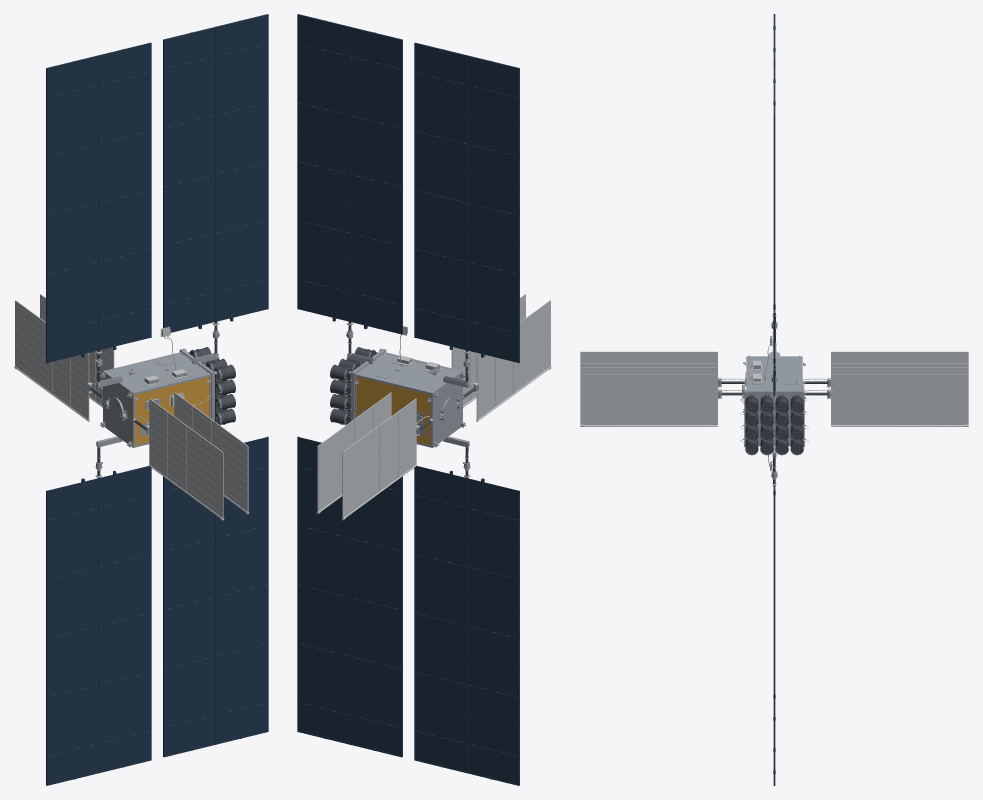
Rendered from transmitter.glb.
3 renders of one model, left to right at view 1: azimuth 30°, elevation 25°; view 2: azimuth 150°, elevation 25°; view 3: azimuth 270°, elevation 25°, orthographic. The views are drawn at different scales.
Visible parts, largest first — view 1: HELIOS_N1_Transmitter; view 2: HELIOS_N1_Transmitter; view 3: HELIOS_N1_Transmitter.
Boxes of the visible parts, x1,y1,x2,y2 form: HELIOS_N1_Transmitter: (14, 14, 268, 785); HELIOS_N1_Transmitter: (297, 14, 551, 785); HELIOS_N1_Transmitter: (580, 14, 968, 785).
Size of the model in its own units: 0.3236 by 1 by 0.5248.
